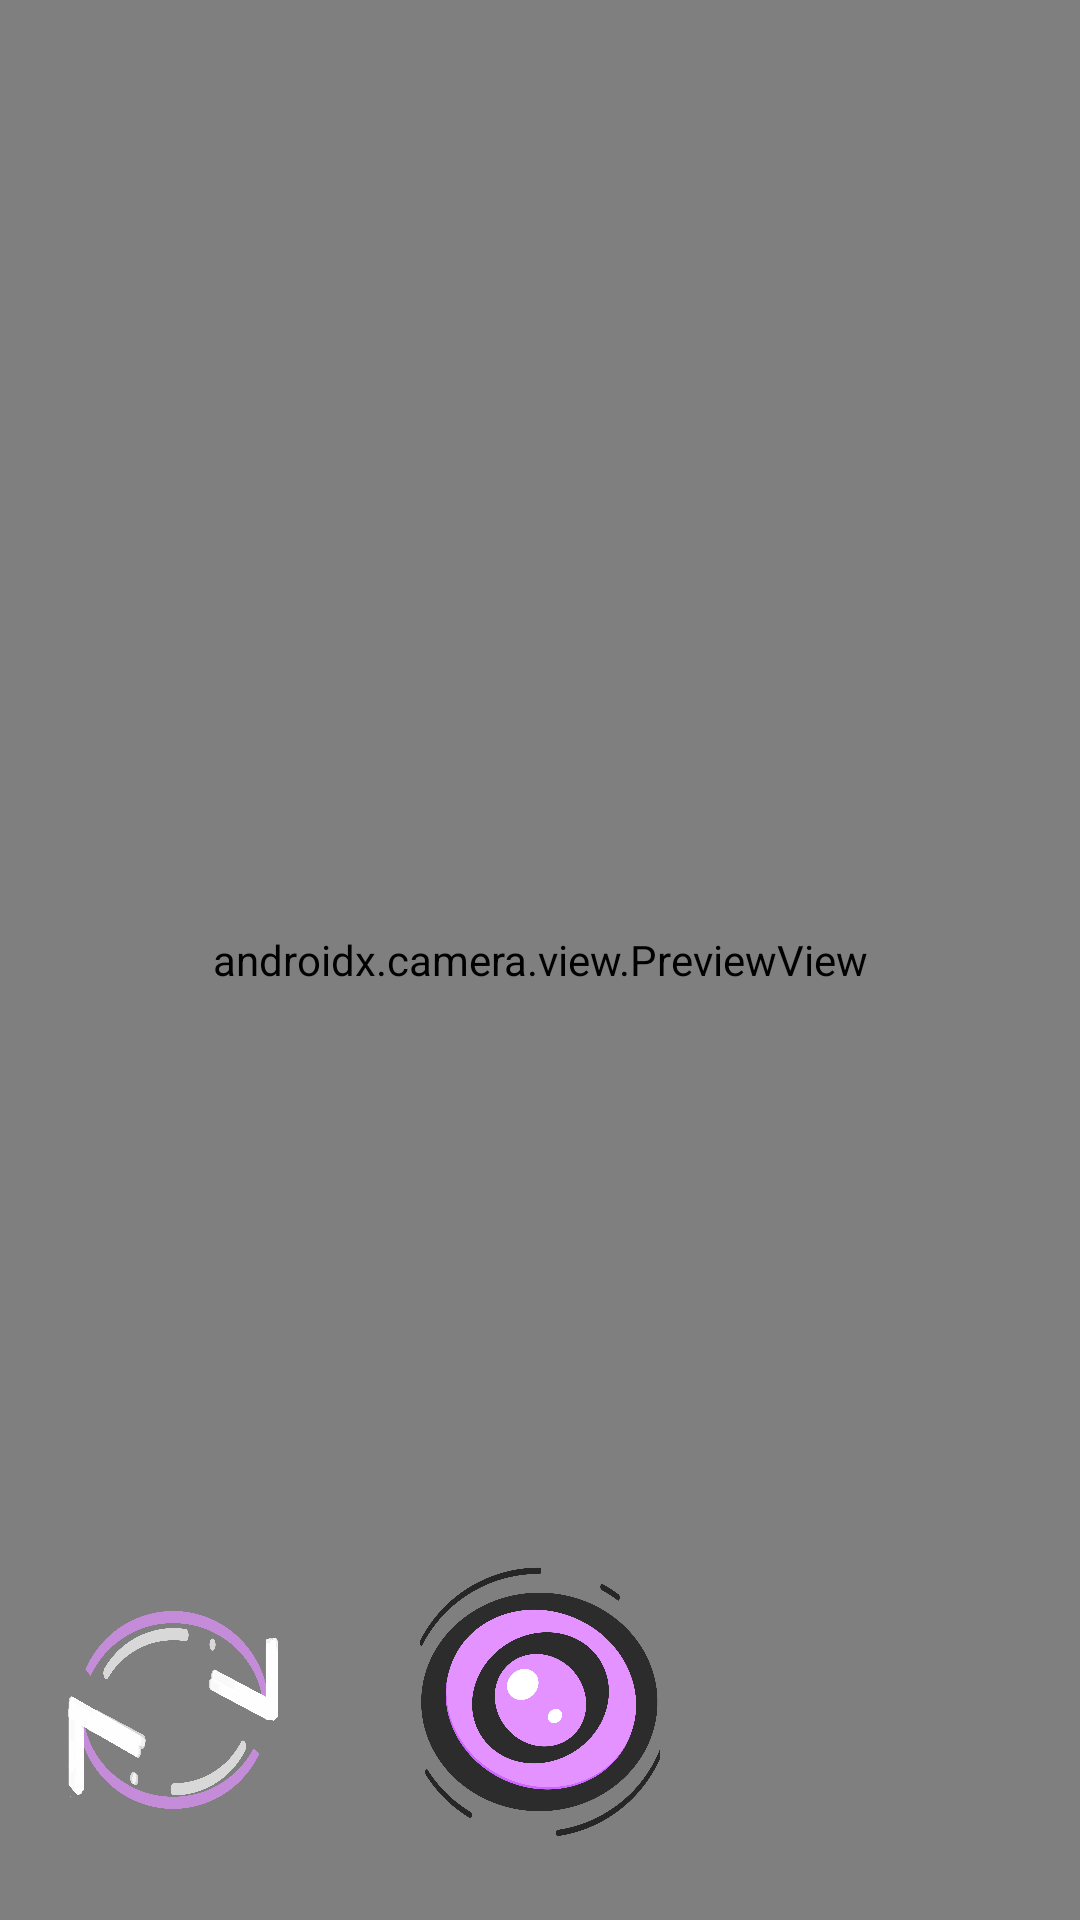

Point at icon controls on the screen. Image size 1080w x 1920h, points as point (x, y).
capture press: point (540, 1702)
flip press: point (173, 1710)
